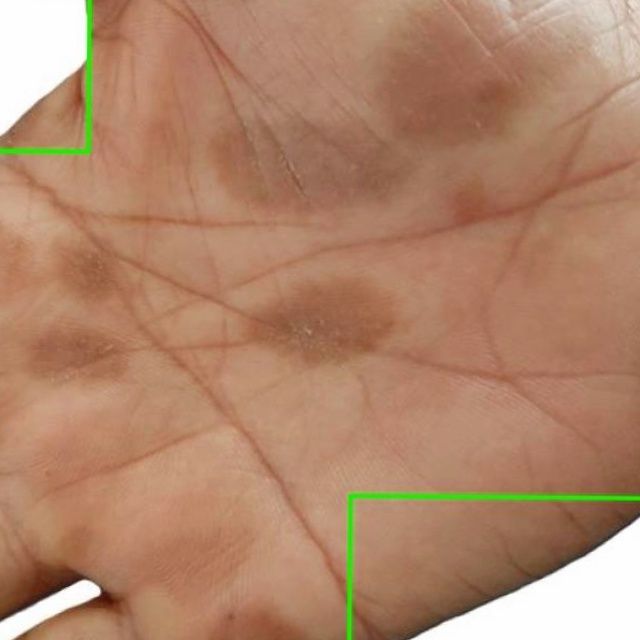Contact Dermatitis: (349, 495, 639, 639), (0, 0, 89, 151)
